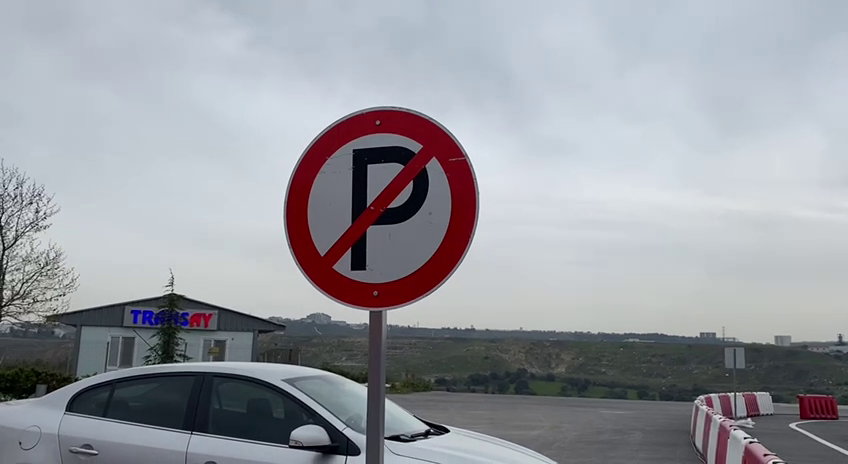noparking: (279, 102, 483, 315)
